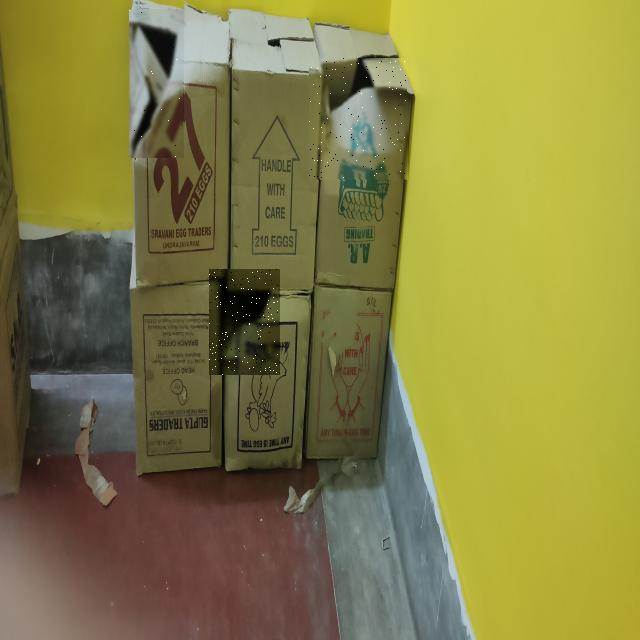squeeze: (310, 58, 407, 178), (130, 11, 182, 158), (210, 269, 278, 375)
